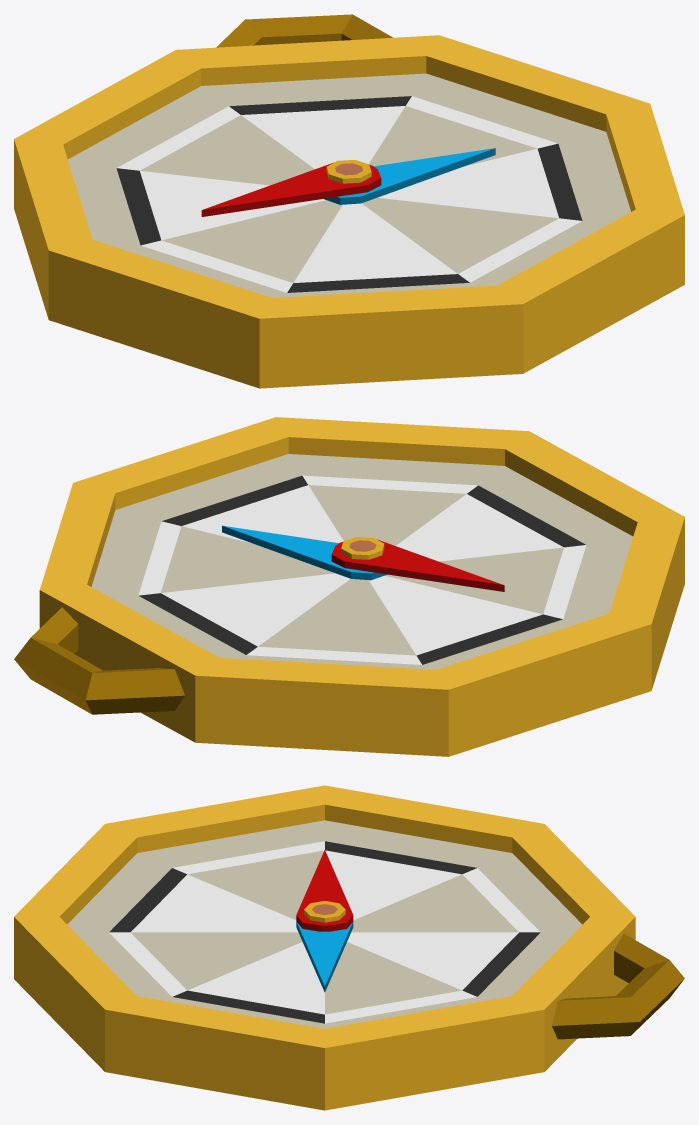
File: Compass_01.glb
The picture shows the model from 3 angles, top to bottom: view 1: azimuth 30°, elevation 25°; view 2: azimuth 150°, elevation 25°; view 3: azimuth 270°, elevation 25°; orthographic projection. The views are drawn at different scales.
Parts seen in each view (by area): view 1: Compass_01; view 2: Compass_01; view 3: Compass_01.
Part boxes in pixels (x1=…): Compass_01: x1=14, y1=14, x2=684, y2=388; Compass_01: x1=14, y1=417, x2=684, y2=756; Compass_01: x1=14, y1=785, x2=684, y2=1110.
Size of what is drawn, in the model's own units: 0.303 by 0.0373 by 0.327.
Materials: 1 (1 with a texture image).
